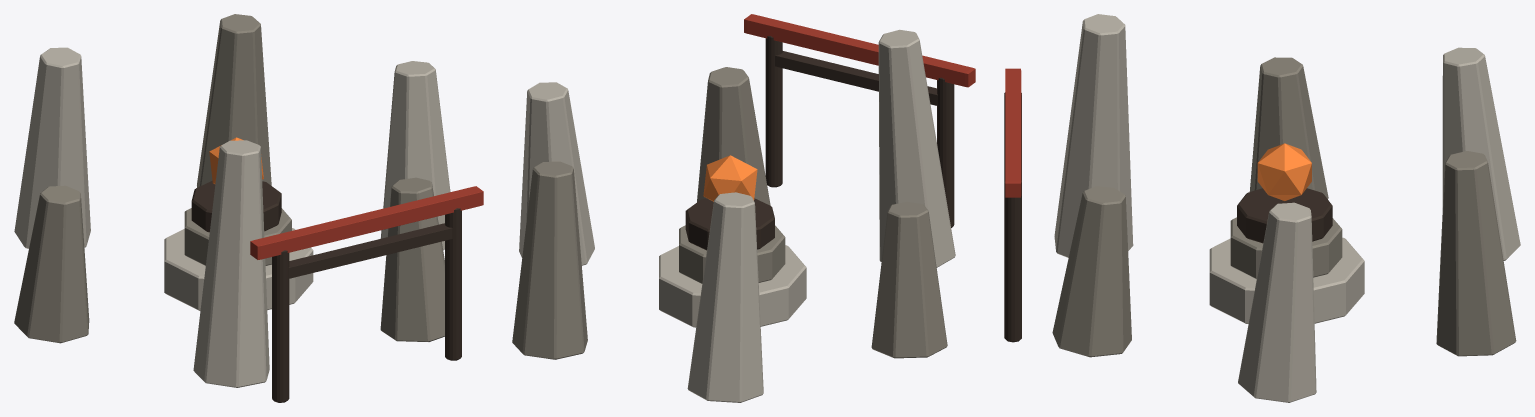
The model's file is shrine.glb.
3 renders of one model, left to right at view 1: azimuth 30°, elevation 25°; view 2: azimuth 150°, elevation 25°; view 3: azimuth 270°, elevation 25°, orthographic. The views are drawn at different scales.
Visible parts, largest first — view 1: s_stone4, s_stone2, s_stone3, s_stone1, s_stone5, s_stone0, s_g3, s_plinth1, s_g4, s_g1, s_g2, s_bowl (+1 smaller); view 2: s_stone2, s_stone1, s_stone4, s_stone3, s_stone0, s_stone5, s_plinth1, s_g3, s_g2, s_plinth2, s_g1, s_g4 (+2 smaller); view 3: s_stone1, s_stone0, s_stone4, s_stone5, s_stone2, s_stone3, s_plinth1, s_bowl, s_g2, s_plinth2, s_ember, s_g3.
Part boxes in pixels (left/top/right/bottom): s_stone4: left=193, top=140, right=269, bottom=387; s_stone2: left=14, top=47, right=90, bottom=248; s_stone3: left=14, top=185, right=89, bottom=343; s_stone1: left=197, top=14, right=271, bottom=187; s_stone5: left=380, top=177, right=444, bottom=341; s_stone0: left=380, top=61, right=450, bottom=249; s_g3: left=250, top=186, right=483, bottom=259; s_plinth1: left=164, top=228, right=313, bottom=310; s_g4: left=288, top=223, right=452, bottom=278; s_g1: left=272, top=250, right=289, bottom=402; s_g2: left=445, top=208, right=461, bottom=360; s_bowl: left=191, top=180, right=281, bottom=232; s_stone2: left=687, top=192, right=763, bottom=402; s_stone1: left=512, top=161, right=587, bottom=359; s_stone4: left=878, top=29, right=955, bottom=267; s_stone3: left=871, top=201, right=947, bottom=358; s_stone0: left=519, top=82, right=594, bottom=265; s_stone5: left=697, top=67, right=770, bottom=205; s_plinth1: left=659, top=245, right=806, bottom=327; s_g3: left=744, top=14, right=975, bottom=87; s_g2: left=765, top=36, right=782, bottom=187; s_plinth2: left=679, top=225, right=785, bottom=283; s_g1: left=937, top=77, right=954, bottom=227; s_g4: left=775, top=51, right=937, bottom=105; s_stone1: left=1436, top=151, right=1516, bottom=356; s_stone0: left=1238, top=202, right=1316, bottom=402; s_stone4: left=1054, top=14, right=1133, bottom=257; s_stone5: left=1052, top=186, right=1131, bottom=357; s_stone2: left=1442, top=47, right=1520, bottom=260; s_stone3: left=1249, top=57, right=1328, bottom=198; s_plinth1: left=1209, top=237, right=1364, bottom=323; s_bowl: left=1237, top=188, right=1332, bottom=243; s_g2: left=1004, top=180, right=1021, bottom=342; s_plinth2: left=1230, top=217, right=1342, bottom=278; s_ember: left=1257, top=143, right=1311, bottom=200; s_g3: left=1005, top=68, right=1021, bottom=197.
Size of the model in its own units: 3.19 by 1.61 by 3.23.
